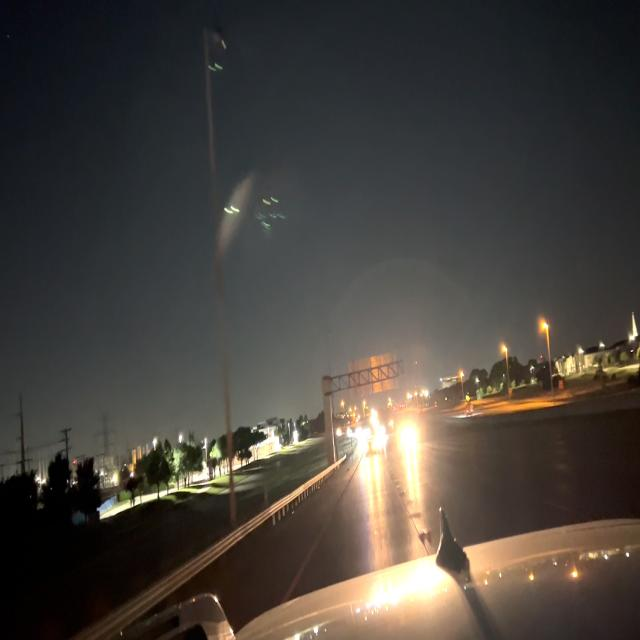back-of-sign: (346, 349, 401, 401)
